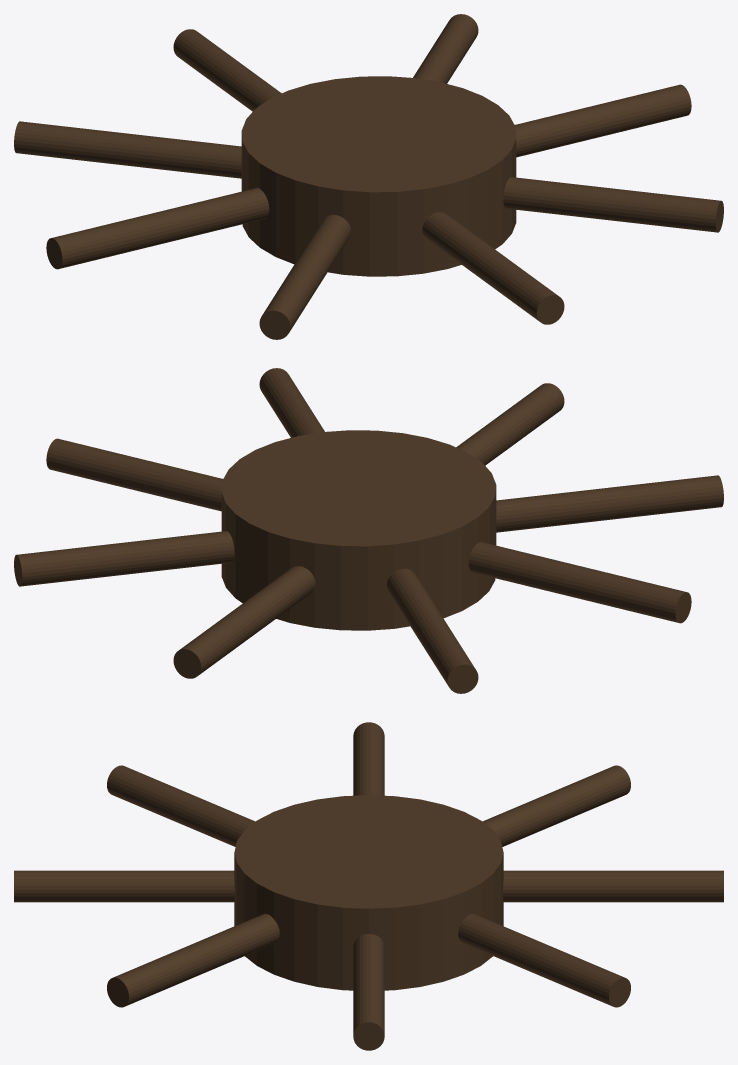
File: Rouage mur.fbx
The picture shows the model from 3 angles, top to bottom: view 1: azimuth 30°, elevation 25°; view 2: azimuth 150°, elevation 25°; view 3: azimuth 270°, elevation 25°; orthographic projection. The views are drawn at different scales.
Parts seen in each view (by area): view 1: Cylindre.002; view 2: Cylindre.002; view 3: Cylindre.002.
Boxes of the visible parts, bbox=[...] form: Cylindre.002: bbox=[14, 14, 723, 339]; Cylindre.002: bbox=[14, 368, 723, 693]; Cylindre.002: bbox=[14, 722, 723, 1050].
Bounding box in the file's own units: 651 × 83.52 × 651.
